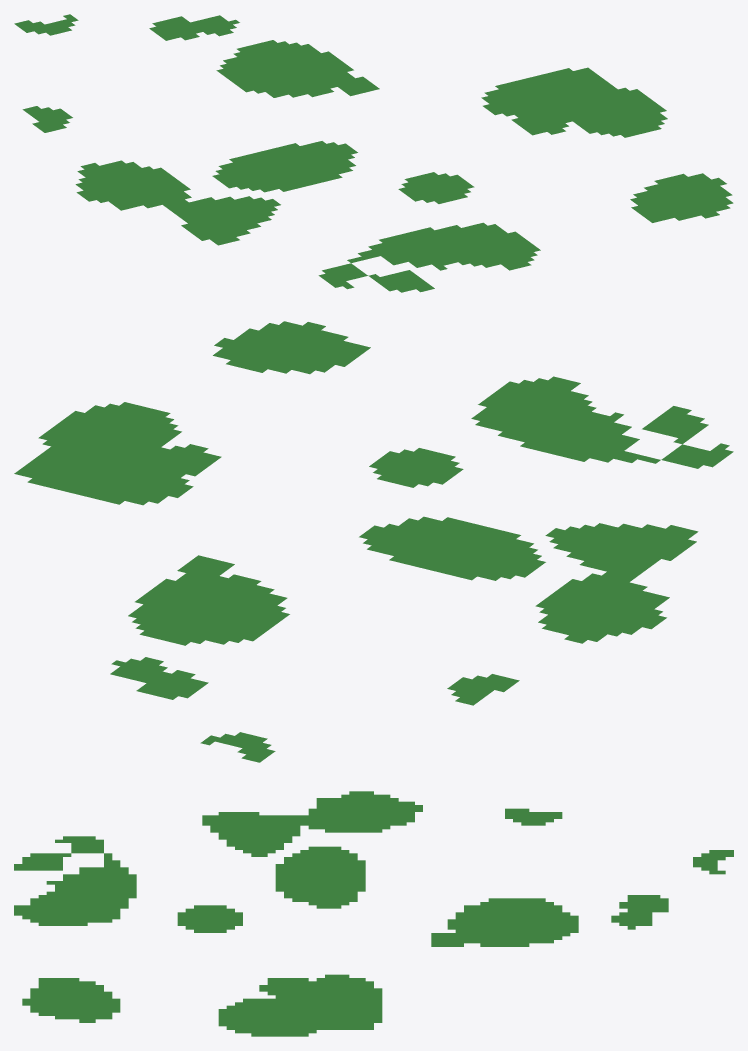
File: Isl-flat5-TreesArea.fbx
3 views of the same model, one above another, from view 1: azimuth 30°, elevation 25°; view 2: azimuth 150°, elevation 25°; view 3: azimuth 270°, elevation 25° (orthographic). The views are drawn at different scales.
Parts seen in each view (by area): view 1: Isl-flat5-TreesArea; view 2: Isl-flat5-TreesArea; view 3: Isl-flat5-TreesArea.
Part boxes in pixels (x1,y1,x2,y2): Isl-flat5-TreesArea: [14, 14, 733, 292]; Isl-flat5-TreesArea: [14, 321, 733, 762]; Isl-flat5-TreesArea: [14, 791, 733, 1036].
Bounding box in the file's own units: 71 × 0 × 88.
